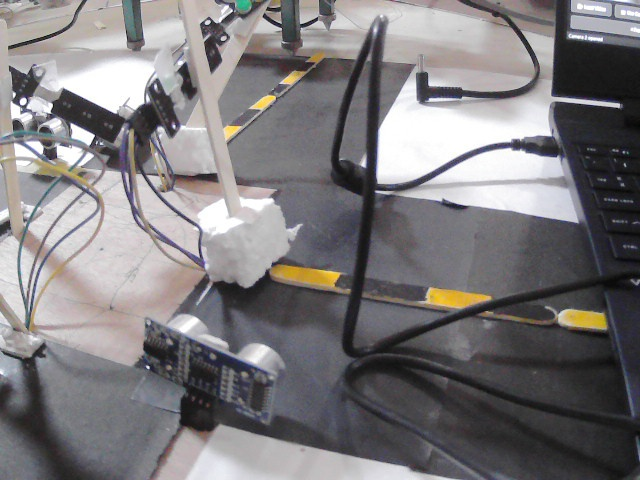black_strip: (491, 295, 553, 327), (335, 288, 421, 306), (226, 105, 260, 126), (295, 57, 313, 71), (270, 83, 288, 95)
mixed_lane: (265, 255, 610, 337), (221, 45, 321, 141)
traffic_light: (1, 56, 123, 140), (140, 39, 228, 126), (194, 0, 270, 41)
uno_breadboard: (134, 312, 300, 425), (4, 108, 70, 165)
yellow_strip: (266, 261, 338, 288), (426, 288, 491, 315), (558, 312, 608, 327), (224, 122, 241, 144), (286, 68, 306, 84), (253, 96, 276, 108)
